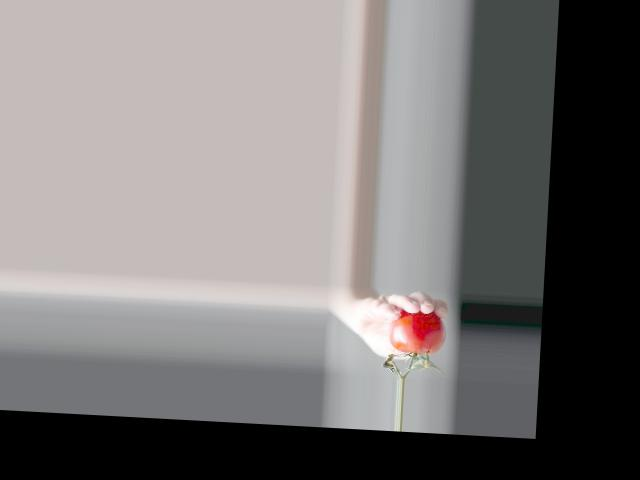tomato: (387, 309, 446, 356)
